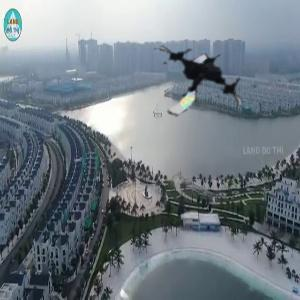drone: (148, 30, 248, 130)
